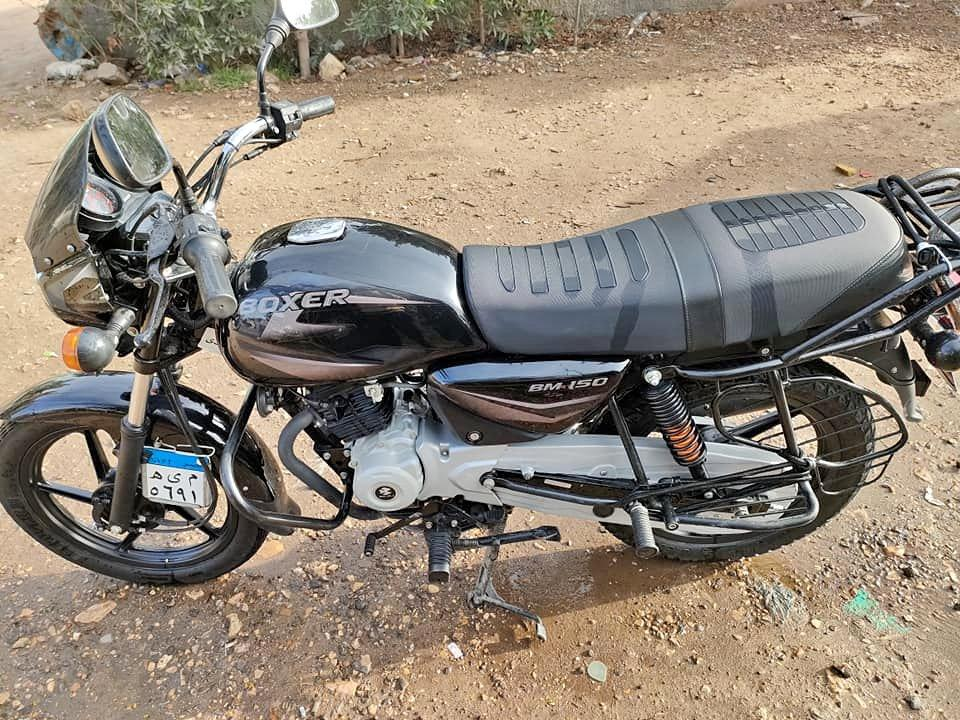License Plate: (141, 447, 217, 510)
